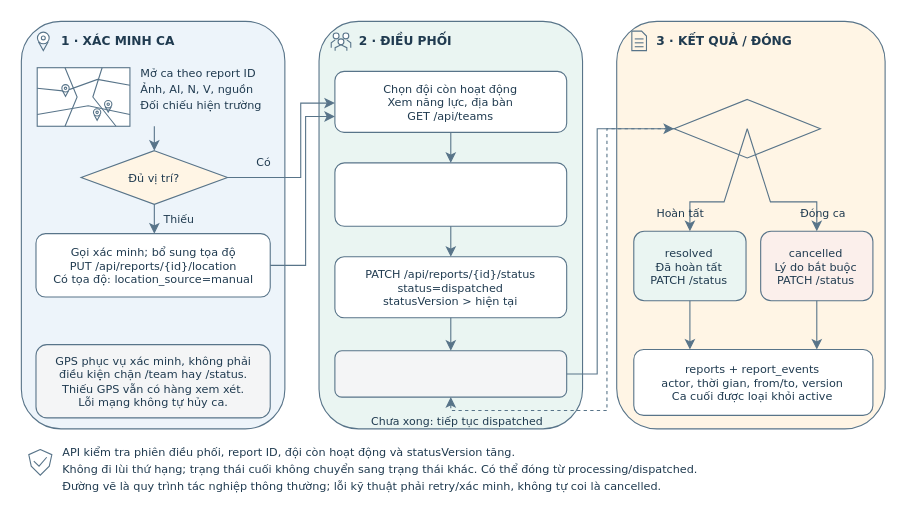
Some shapes in this 906 by 515 pixel diagram are drawn without their labels. Each missing label, with the centre of its shape:
"Bản đồ minh họa" belongs at (x=83, y=96).
"Hoàn tất / cần đóng ca?" belongs at (x=746, y=128).
"PUT /api/reports/{id}/team Ghi assigned_team_id + event Không tự đổi status" belongs at (x=450, y=194).
"Đội tiếp cận và cứu nạn Tác nghiệp ngoài phần mềm" belongs at (x=450, y=373).
